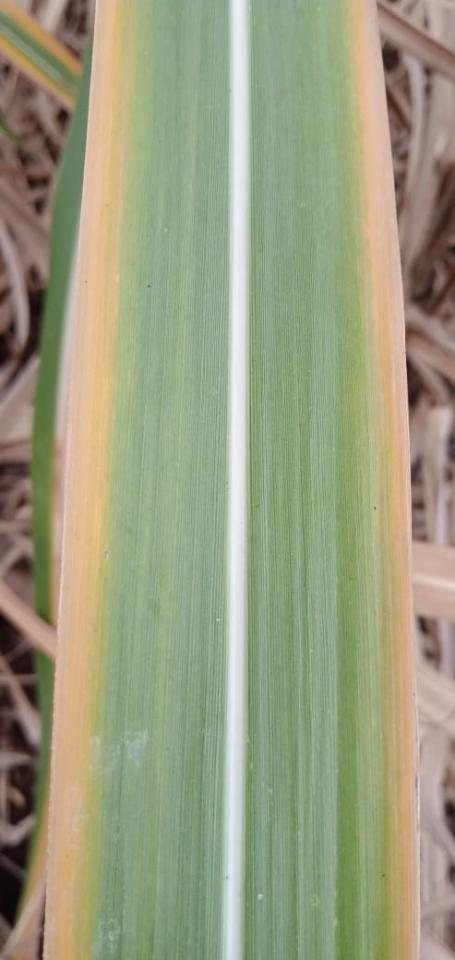Yellow: (44, 0, 132, 959), (353, 0, 419, 959)
